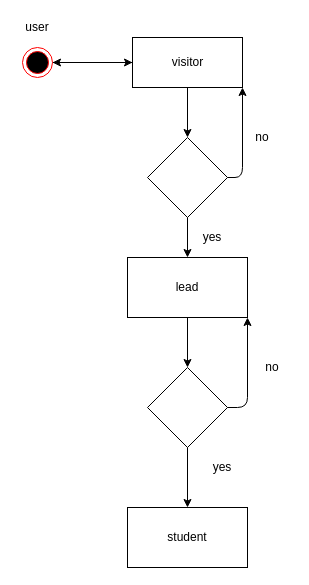
The diagram is 309 pixels wide and 585 high, and some of its shapes have lost their labels. The box of each missing label's shape, as (x1, y1, x2, y2) in pixels:
signed up?: (146, 366, 228, 448)
submitted request?: (146, 136, 228, 218)
